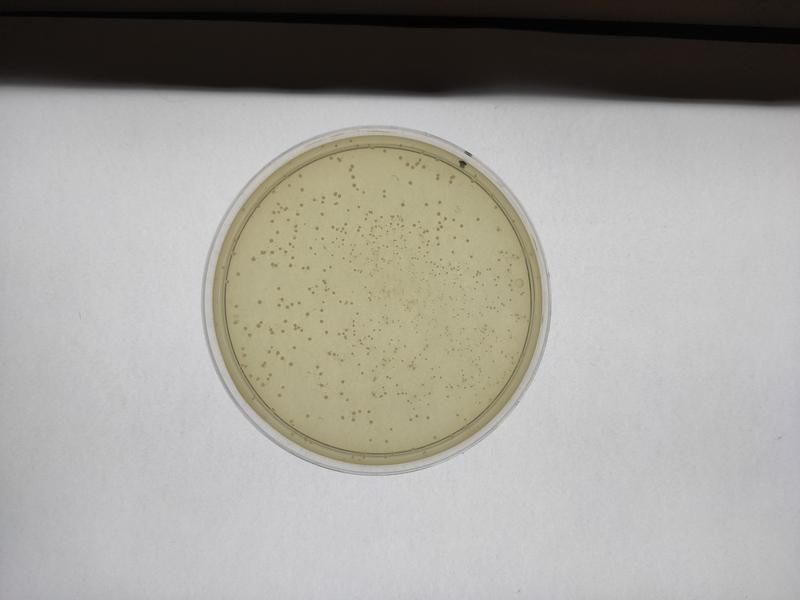colony: (232, 268, 244, 279), (434, 195, 445, 206), (304, 334, 315, 345), (385, 423, 396, 434), (405, 175, 415, 186), (472, 213, 482, 224), (302, 308, 312, 319), (312, 222, 322, 233), (316, 208, 327, 218), (287, 342, 299, 351), (273, 282, 282, 294), (255, 296, 265, 306), (317, 316, 327, 326), (248, 254, 258, 264), (272, 227, 282, 237), (397, 198, 406, 208), (493, 223, 502, 233), (301, 411, 312, 419), (298, 184, 306, 195), (463, 235, 472, 244), (449, 246, 457, 255), (367, 436, 376, 444), (467, 252, 475, 260), (422, 200, 429, 208)
